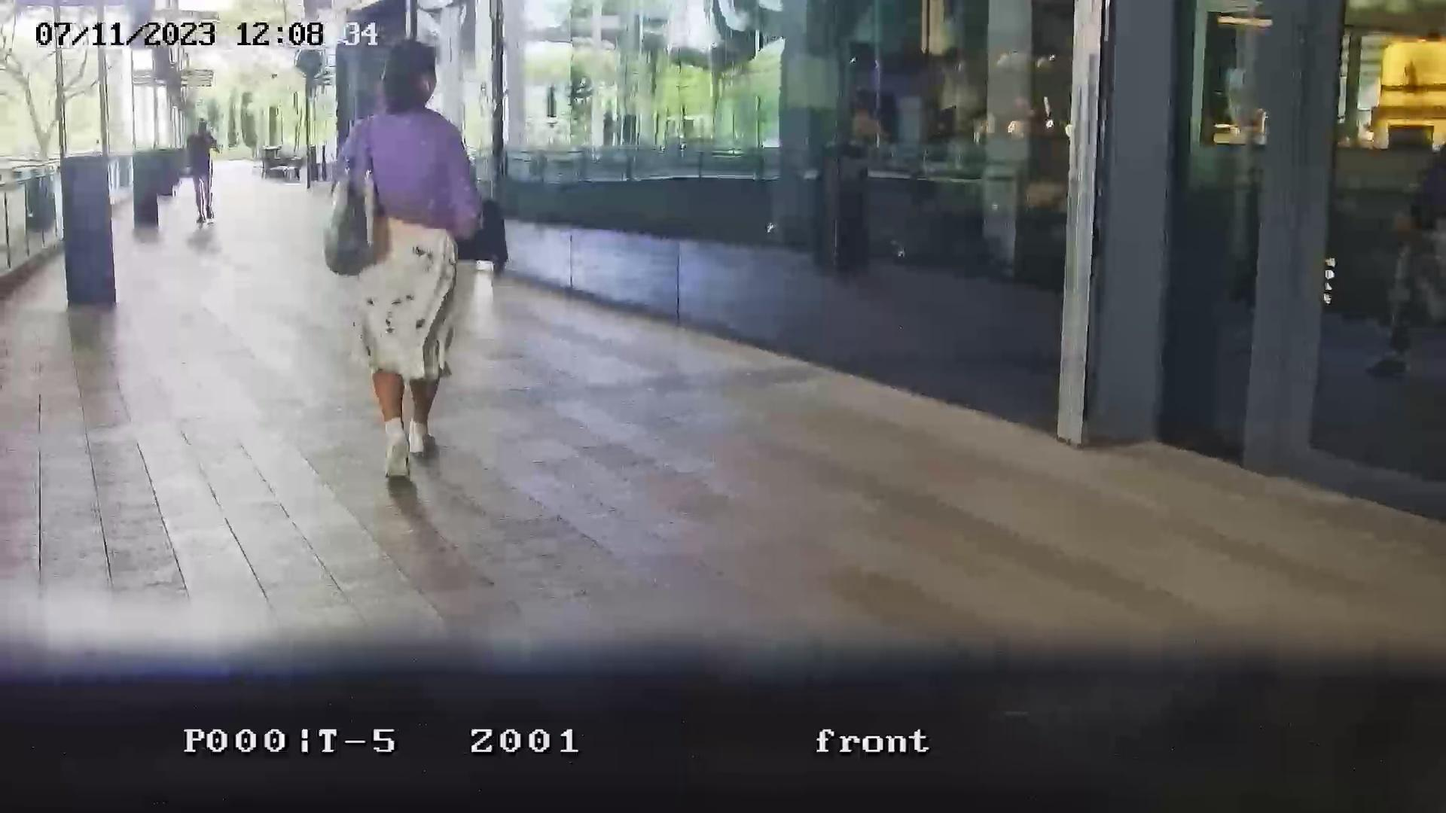person: (333, 38, 484, 483), (1365, 136, 1445, 377), (186, 119, 221, 220)
